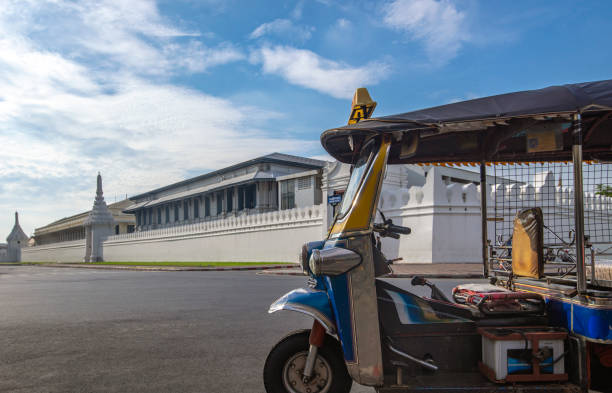threewheel: (262, 77, 612, 393)
